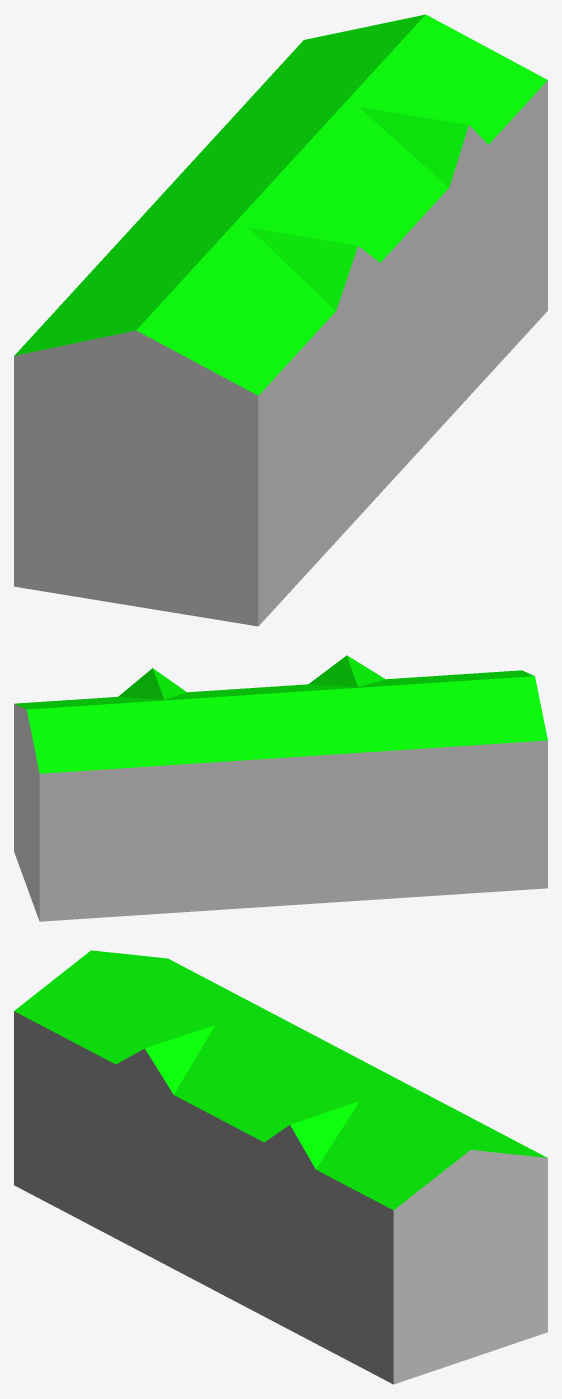
The model's file is DEHB01ALT0001iUT.gltf.
3 renders of one model, top to bottom at view 1: azimuth 30°, elevation 25°; view 2: azimuth 150°, elevation 25°; view 3: azimuth 270°, elevation 25°, orthographic. The views are drawn at different scales.
Visible parts, largest first — view 1: Z_UP; view 2: Z_UP; view 3: Z_UP.
Boxes of the visible parts, bbox=[...] form: Z_UP: bbox=[14, 14, 547, 626]; Z_UP: bbox=[14, 655, 547, 921]; Z_UP: bbox=[14, 950, 547, 1384].
Size of the model in its own units: 16.96 by 6.55 by 15.19.
